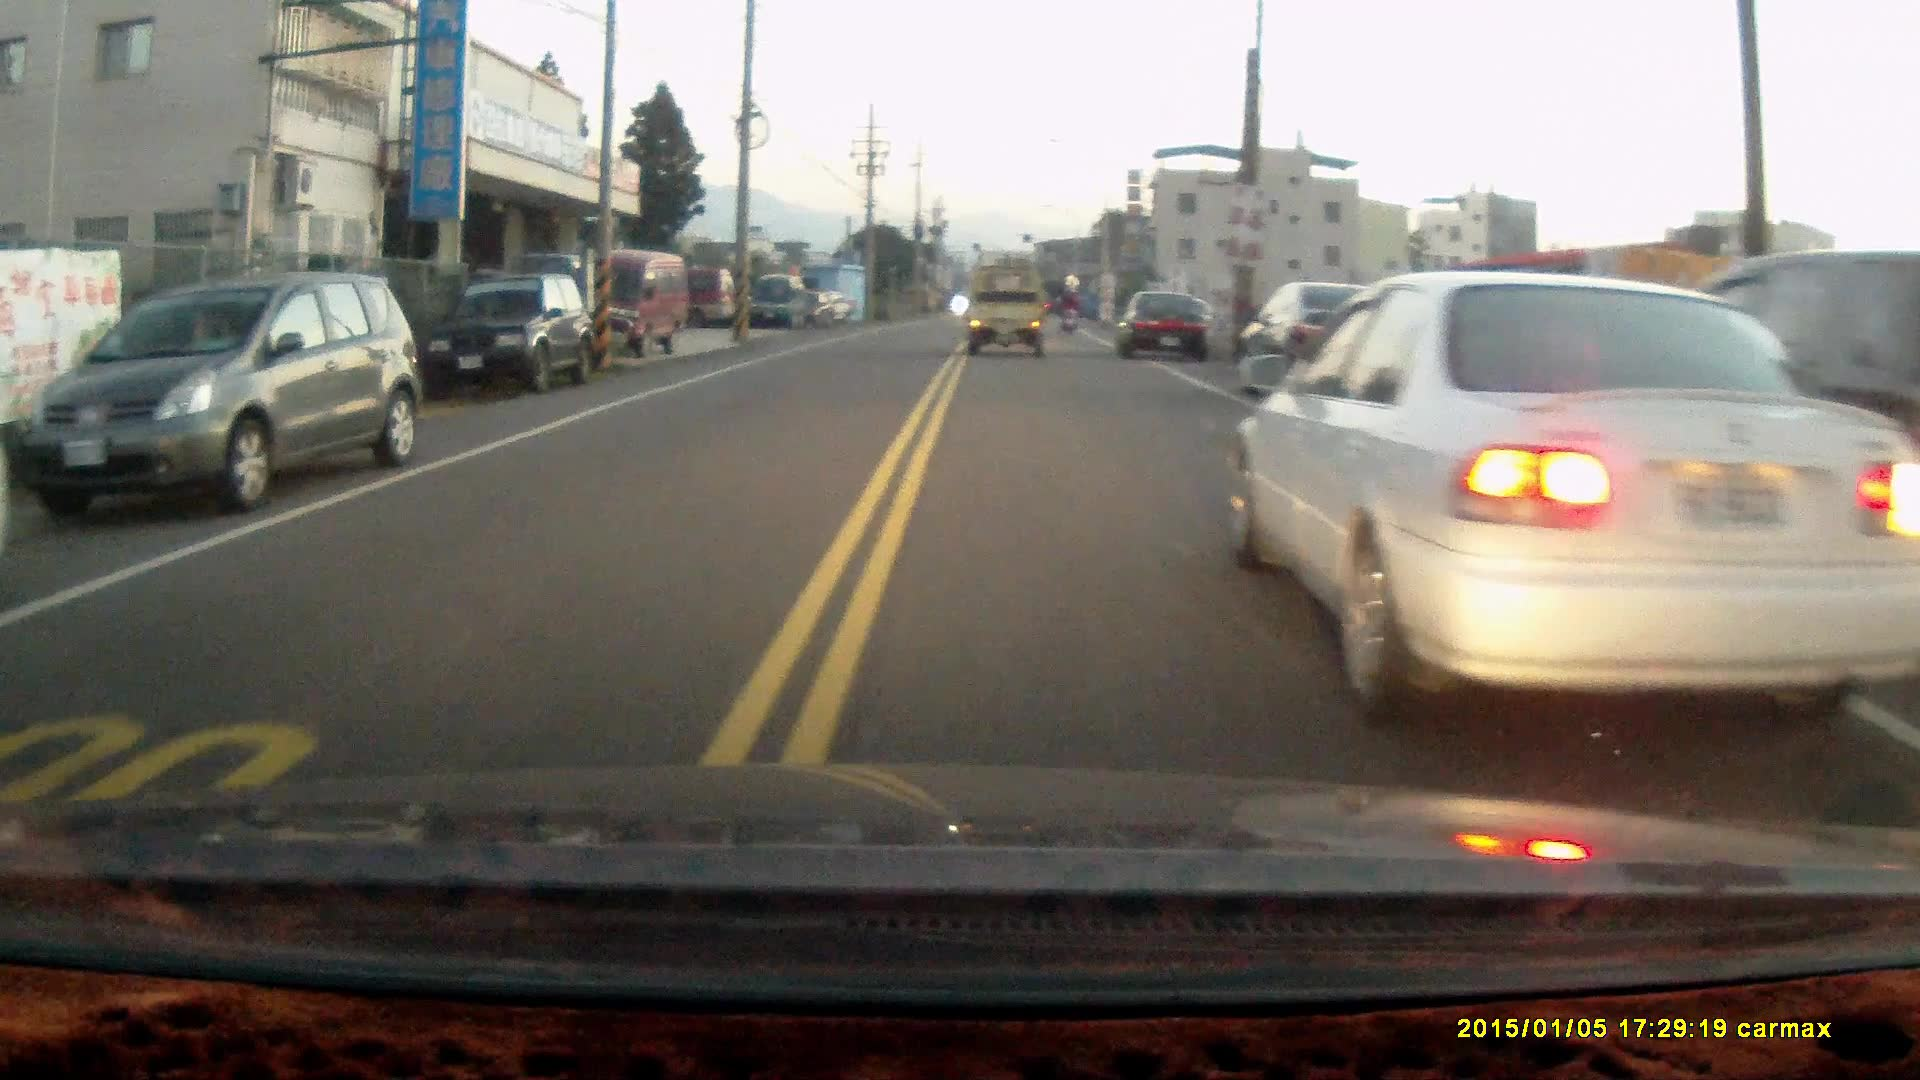rider: (1055, 286, 1082, 334)
vehicle: (1215, 267, 1918, 731), (1502, 252, 1920, 608), (18, 270, 415, 511), (1237, 279, 1418, 403), (434, 271, 597, 397), (568, 251, 693, 356), (962, 271, 1050, 358), (1113, 290, 1214, 362), (749, 273, 812, 332)
